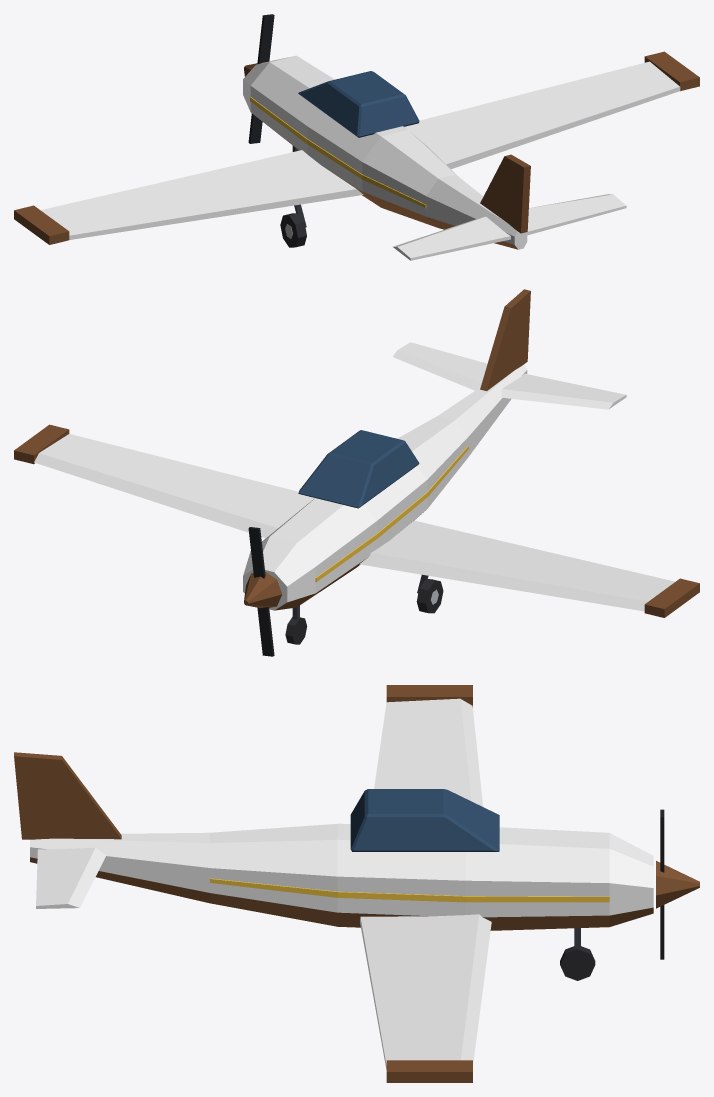
The model's file is Plane_Prop.glb.
3 views of the same model, one above another, from view 1: azimuth 30°, elevation 25°; view 2: azimuth 150°, elevation 25°; view 3: azimuth 270°, elevation 25° (orthographic). The views are drawn at different scales.
Parts seen in each view (by area): view 1: Plane_Prop_Body, Plane_Prop_Propeller; view 2: Plane_Prop_Body, Plane_Prop_Propeller; view 3: Plane_Prop_Body, Plane_Prop_Propeller.
Boxes of the visible parts, left/top/right/bottom form: Plane_Prop_Body: left=14, top=51, right=699, bottom=260; Plane_Prop_Propeller: left=244, top=14, right=274, bottom=143; Plane_Prop_Body: left=14, top=289, right=699, bottom=644; Plane_Prop_Propeller: left=244, top=527, right=282, bottom=656; Plane_Prop_Body: left=14, top=685, right=653, bottom=1082; Plane_Prop_Propeller: left=656, top=809, right=699, bottom=959.
Bounding box in the file's own units: 11.45 × 3.1 × 8.58.
1 material, 1 textured.
